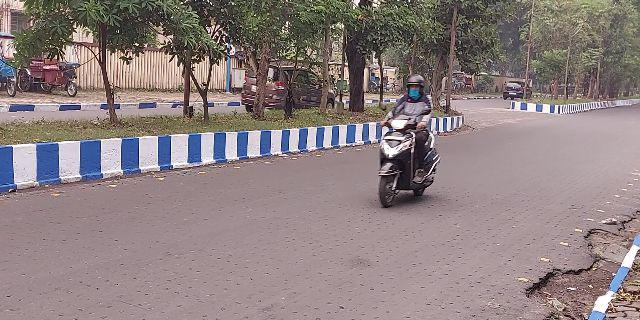Motorbike: (366, 74, 442, 218)
